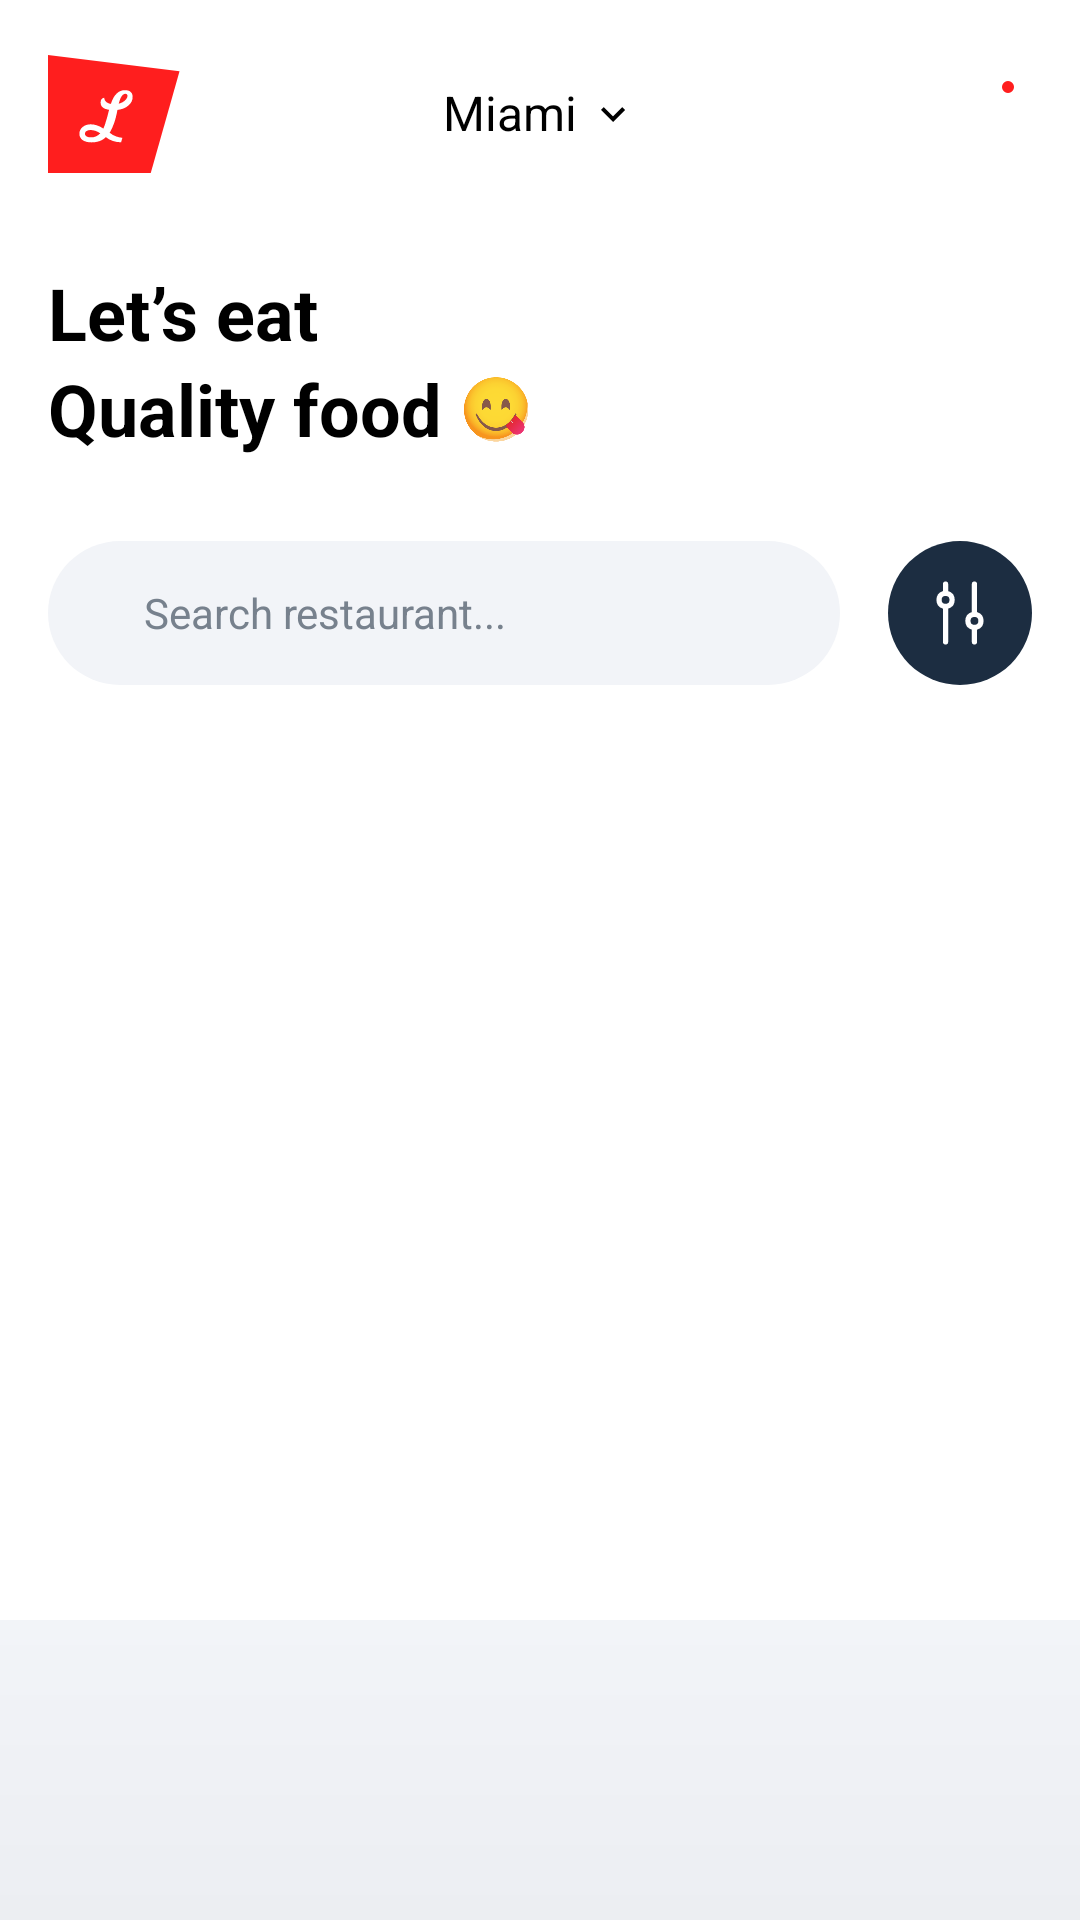

Screen size 1080*1920. Icon name, then its box in pixels as (x1, y1, x2, y2):
tongue emoji: (464, 377, 528, 442)
